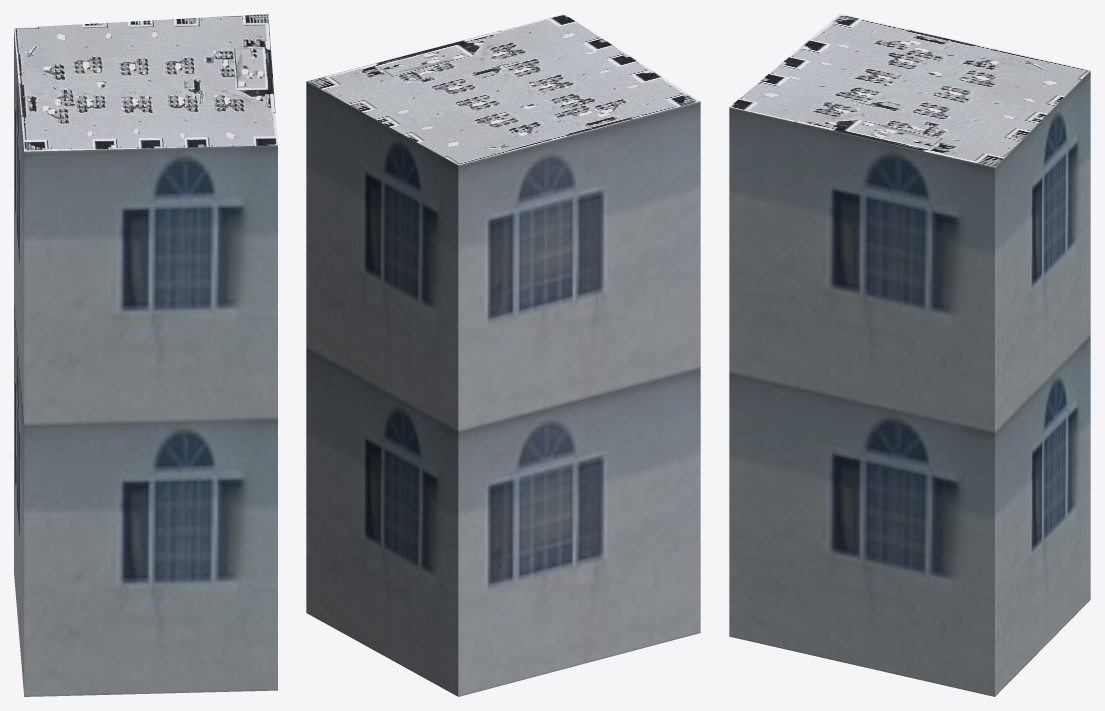
File: ResTex__5149.fbx
3 views of the same model, side by side, from view 1: azimuth 30°, elevation 25°; view 2: azimuth 150°, elevation 25°; view 3: azimuth 270°, elevation 25° (orthographic). The views are drawn at different scales.
Visible parts, largest first — view 1: CityEngineMaterial_17_m, CityEngineMaterial_8_m; view 2: CityEngineMaterial_17_m, CityEngineMaterial_8_m; view 3: CityEngineMaterial_17_m, CityEngineMaterial_8_m.
Boxes of the visible parts, x1,y1,x2,y2 form: CityEngineMaterial_17_m: (14, 30, 277, 696); CityEngineMaterial_8_m: (14, 14, 277, 151); CityEngineMaterial_17_m: (306, 81, 700, 696); CityEngineMaterial_8_m: (307, 14, 699, 165); CityEngineMaterial_17_m: (729, 71, 1090, 696); CityEngineMaterial_8_m: (729, 14, 1090, 167).
Size of the model in its own units: 3.73 by 6 by 3.71.
2 materials, 2 textured.
